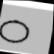no answer: (0, 17, 31, 47)
